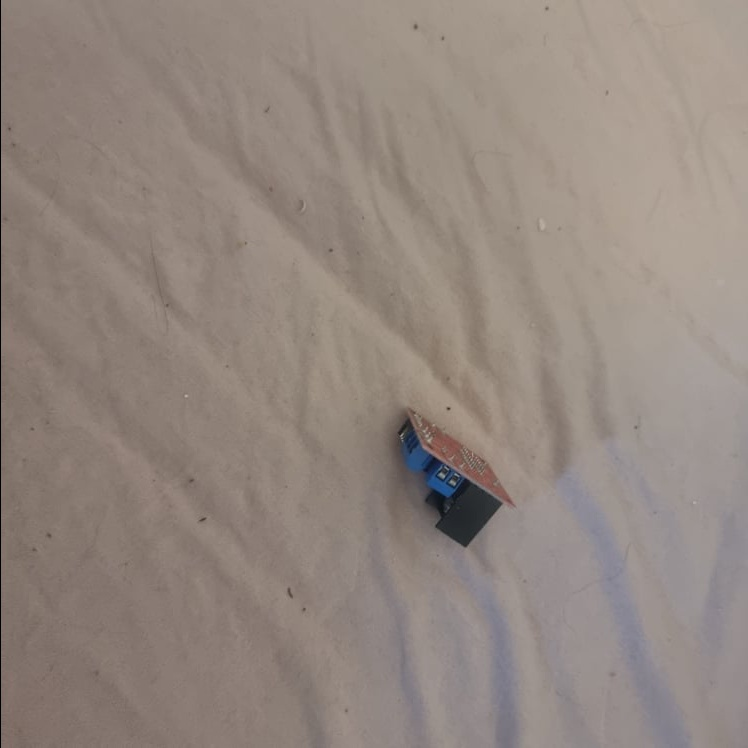MOTOR: (392, 411, 513, 549)
